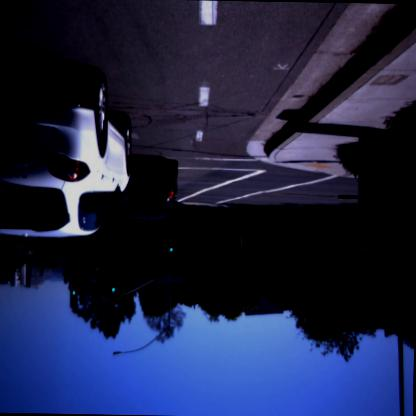trafficlight: (109, 283, 118, 305), (166, 242, 174, 264), (70, 286, 77, 310)
